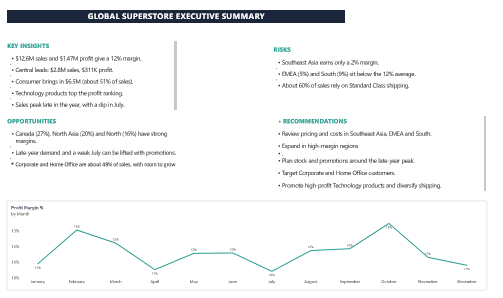

The dashboard page shown, as its layout file describes it:
{"tool":"powerbi","page":{"name":"EXECUTIVE SUMMARY","canvas":[1920,1080],"ordinal":1},"visuals":[{"type":"textbox","box":[10.6,0,1290.5,48.9],"z":0},{"type":"textbox","box":[10.6,119.1,646.3,267.9],"z":1},{"type":"textbox","box":[1026.9,133.9,844,223.2],"z":2},{"type":"textbox","box":[10.6,406.1,646.3,289.1],"z":3},{"type":"textbox","box":[1026.9,406.1,812.1,289.1],"z":4},{"type":"lineChart","fields":{"Category":["Global_Superstore2.Order Date.Variation.Date Hierarchy.Month"],"Y":["Global_Superstore2.Profit Margin %"]},"box":[10.3,728,1830.3,340.9],"z":5}]}

Visuals, with their boxes on the page's 1920x1080 design canvas (x1, y1, x2, y2). These are canvas units, not pixel positions in the 503x298 screenshot, which may show the page scaled, cropped or inside an application window:
textbox: <bbox>11, 0, 1301, 49</bbox>
textbox: <bbox>11, 119, 657, 387</bbox>
textbox: <bbox>1027, 134, 1871, 357</bbox>
textbox: <bbox>11, 406, 657, 695</bbox>
textbox: <bbox>1027, 406, 1839, 695</bbox>
lineChart - Global_Superstore2.Order Date.Variation.Date Hierarchy.Month x Global_Superstore2.Profit Margin %: <bbox>10, 728, 1841, 1069</bbox>
